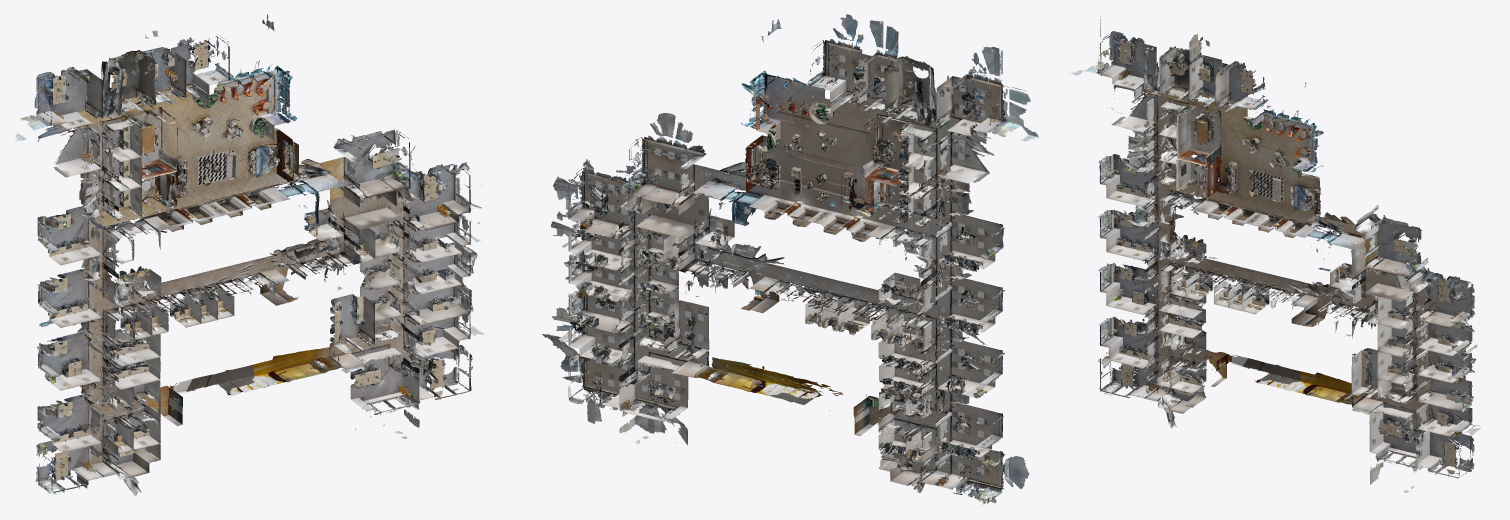
Rendered from office.glb.
3 views of the same model, side by side, from view 1: azimuth 30°, elevation 25°; view 2: azimuth 150°, elevation 25°; view 3: azimuth 330°, elevation 25° (orthographic). The views are drawn at different scales.
Parts seen in each view (by area): view 1: chunk008_group000_sub002, chunk171_group000_sub002, chunk003_group000_sub002, chunk019_group000_sub002, chunk083_group000_sub002, chunk024_group000_sub002, chunk068_group000_sub002, chunk010_group000_sub002, chunk021_group000_sub002, chunk005_group000_sub002, chunk069_group000_sub002, chunk059_group000_sub002 (+106 smaller); view 2: chunk171_group000_sub002, chunk011_group000_sub002, chunk043_group000_sub002, chunk047_group000_sub002, chunk002_group000_sub002, chunk035_group000_sub002, chunk064_group000_sub002, chunk052_group000_sub002, chunk048_group000_sub002, chunk018_group000_sub002, chunk036_group000_sub002, chunk054_group000_sub002 (+112 smaller); view 3: chunk008_group000_sub002, chunk171_group000_sub002, chunk003_group000_sub002, chunk019_group000_sub002, chunk068_group000_sub002, chunk005_group000_sub002, chunk024_group000_sub002, chunk010_group000_sub002, chunk013_group000_sub002, chunk055_group000_sub002, chunk059_group000_sub002, chunk021_group000_sub002 (+96 smaller).
Boxes of the visible parts, x1,y1,x2,y2 form: chunk008_group000_sub002: (178, 131, 254, 205); chunk171_group000_sub002: (30, 27, 481, 490); chunk003_group000_sub002: (190, 79, 266, 151); chunk019_group000_sub002: (350, 321, 416, 400); chunk083_group000_sub002: (61, 111, 401, 459); chunk024_group000_sub002: (64, 164, 146, 258); chunk068_group000_sub002: (53, 41, 455, 471); chunk010_group000_sub002: (112, 47, 178, 123); chunk021_group000_sub002: (38, 319, 115, 377); chunk005_group000_sub002: (79, 377, 146, 449); chunk069_group000_sub002: (138, 50, 462, 373); chunk059_group000_sub002: (37, 94, 453, 479); chunk171_group000_sub002: (570, 21, 1008, 495); chunk011_group000_sub002: (792, 81, 858, 162); chunk043_group000_sub002: (553, 176, 1029, 488); chunk047_group000_sub002: (541, 14, 1002, 373); chunk002_group000_sub002: (936, 395, 1002, 477); chunk035_group000_sub002: (720, 170, 1000, 486); chunk064_group000_sub002: (552, 46, 1030, 403); chunk052_group000_sub002: (551, 56, 929, 433); chunk048_group000_sub002: (687, 42, 868, 444); chunk018_group000_sub002: (584, 326, 651, 400); chunk036_group000_sub002: (694, 155, 868, 281); chunk054_group000_sub002: (856, 97, 1002, 386); chunk008_group000_sub002: (1232, 145, 1300, 220); chunk171_group000_sub002: (1098, 36, 1471, 474); chunk003_group000_sub002: (1246, 120, 1308, 181); chunk019_group000_sub002: (1383, 389, 1439, 457); chunk068_group000_sub002: (1126, 64, 1465, 432); chunk005_group000_sub002: (1150, 314, 1208, 381); chunk024_group000_sub002: (1137, 138, 1206, 214); chunk010_group000_sub002: (1179, 52, 1235, 121); chunk013_group000_sub002: (1391, 288, 1449, 350); chunk055_group000_sub002: (1185, 49, 1474, 455); chunk059_group000_sub002: (1114, 84, 1472, 380); chunk021_group000_sub002: (1114, 255, 1179, 318).
Size of the model in its own units: 46.36 by 42.19 by 4.01.
176 materials, 176 textured.
